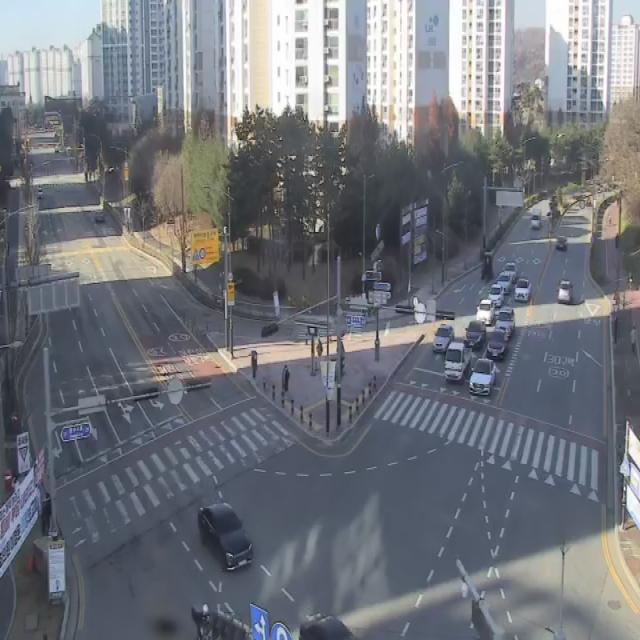Car: (197, 505, 254, 574), (469, 359, 496, 397), (433, 324, 455, 354), (464, 320, 486, 350), (487, 331, 508, 361), (495, 309, 515, 338), (515, 278, 532, 303), (557, 279, 573, 304), (487, 284, 504, 307), (496, 273, 512, 294), (504, 262, 518, 282), (555, 236, 568, 252)
Truck: (445, 346, 471, 383), (531, 208, 542, 230)
